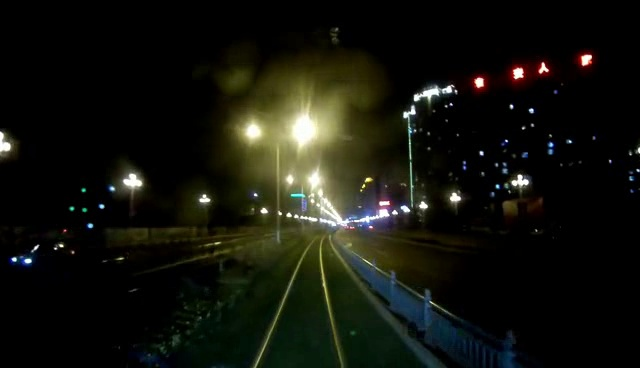car: (4, 239, 79, 271)
